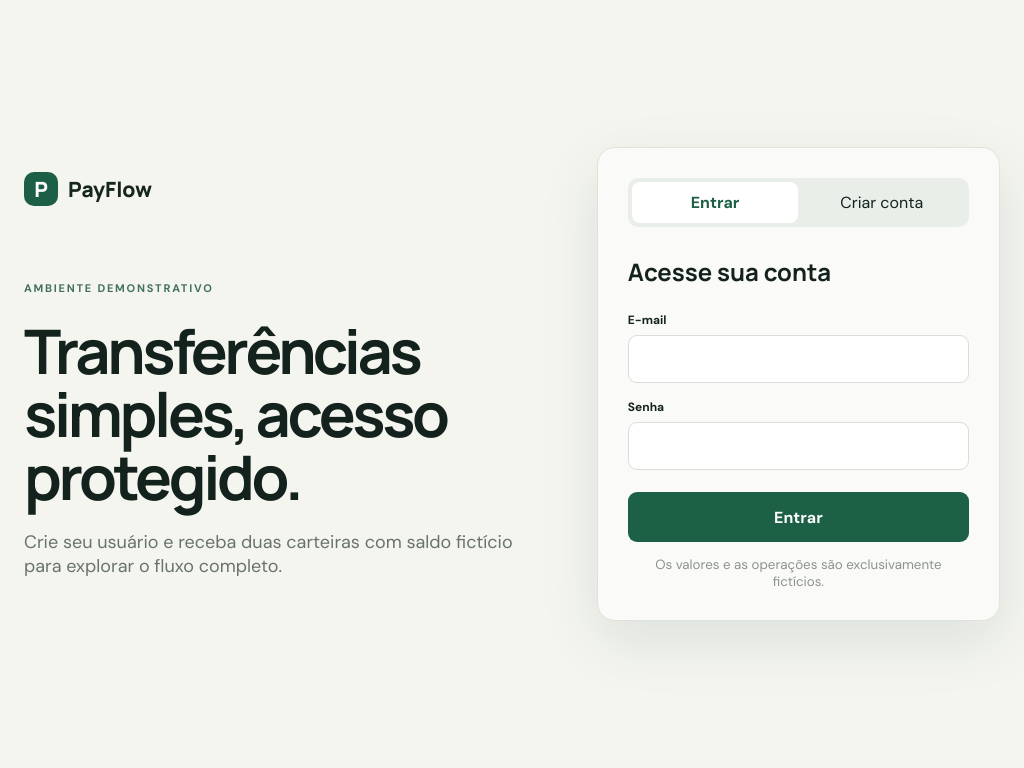
Test case: PayFlow dashboard › selects another destination when the source changes to the current destination
Type "user@example.com" into the field labelled "E-mail". click: {"x": 798, "y": 359}
box: x1=628 y1=335 x2=969 y2=383
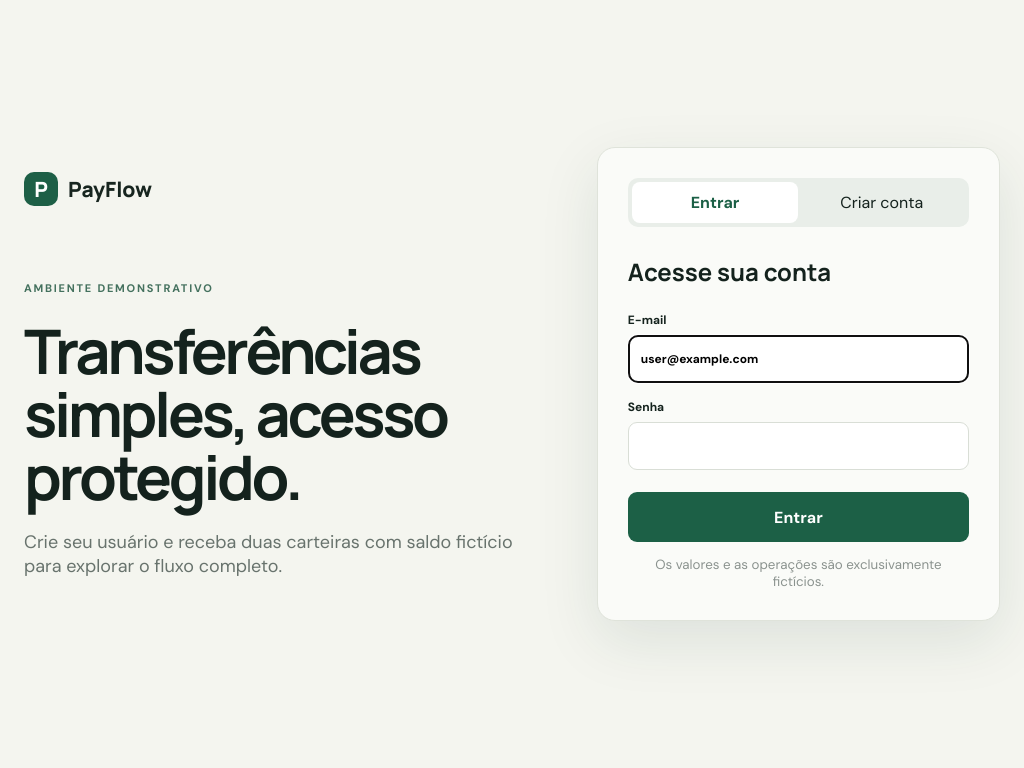
Type "safe-password" into the password field labelled "Senha". click: {"x": 798, "y": 446}
box: x1=628 y1=422 x2=969 y2=470
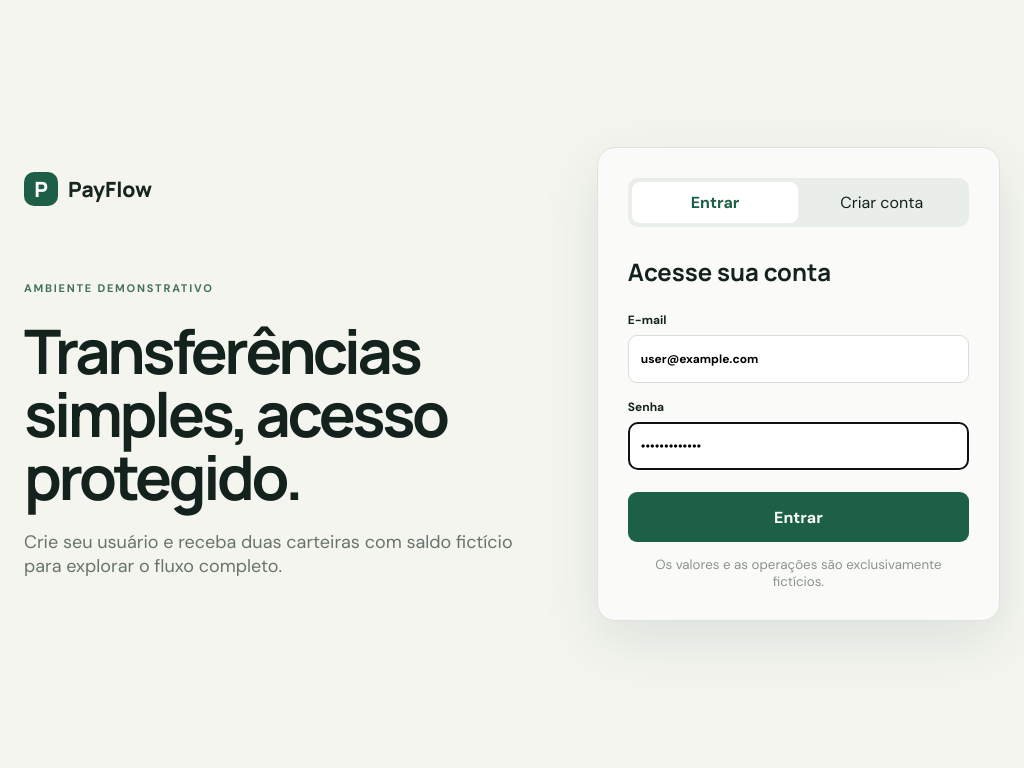
Click the button "Entrar". click: {"x": 798, "y": 517}
box: x1=628 y1=492 x2=969 y2=542
(page scrolled)
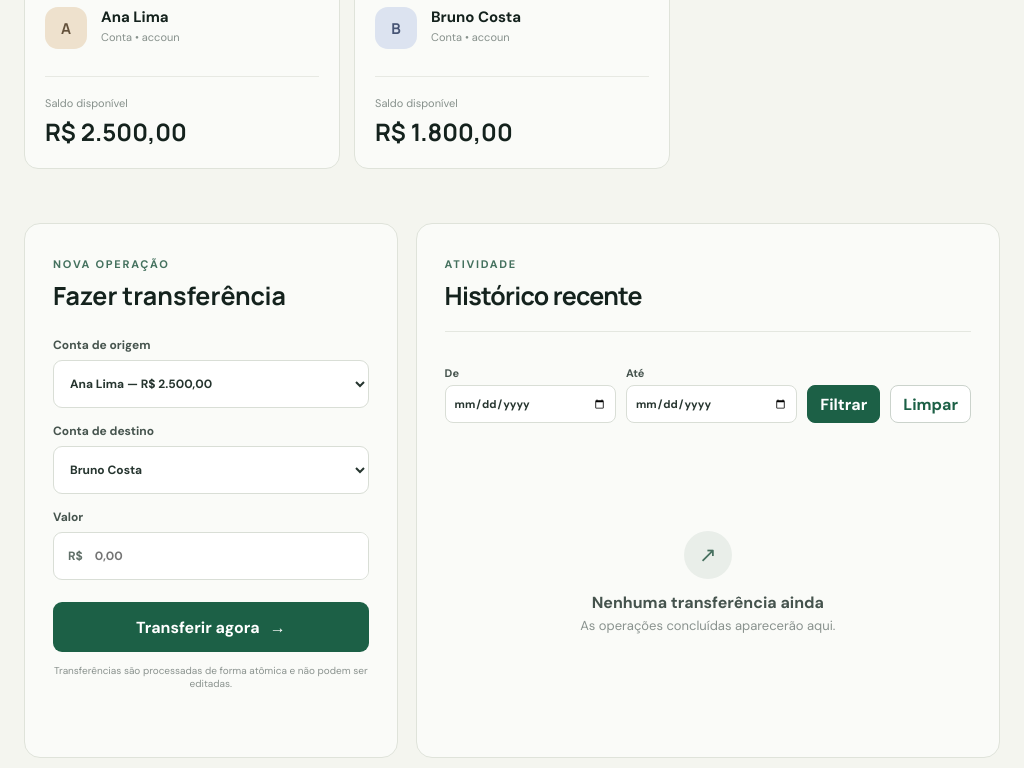
Expected: the dropdown labelled "Conta de origem" shows "Ana Lima — R$ 2.500,00"
Expected: the dropdown labelled "Conta de destino" shows "Bruno Costa", x1=53 y1=446 x2=369 y2=494
Select "Bruno Costa — R$ 1.800,00" in the dropdown labelled "Conta de origem". click: {"x": 211, "y": 384}
box: x1=53 y1=360 x2=369 y2=408
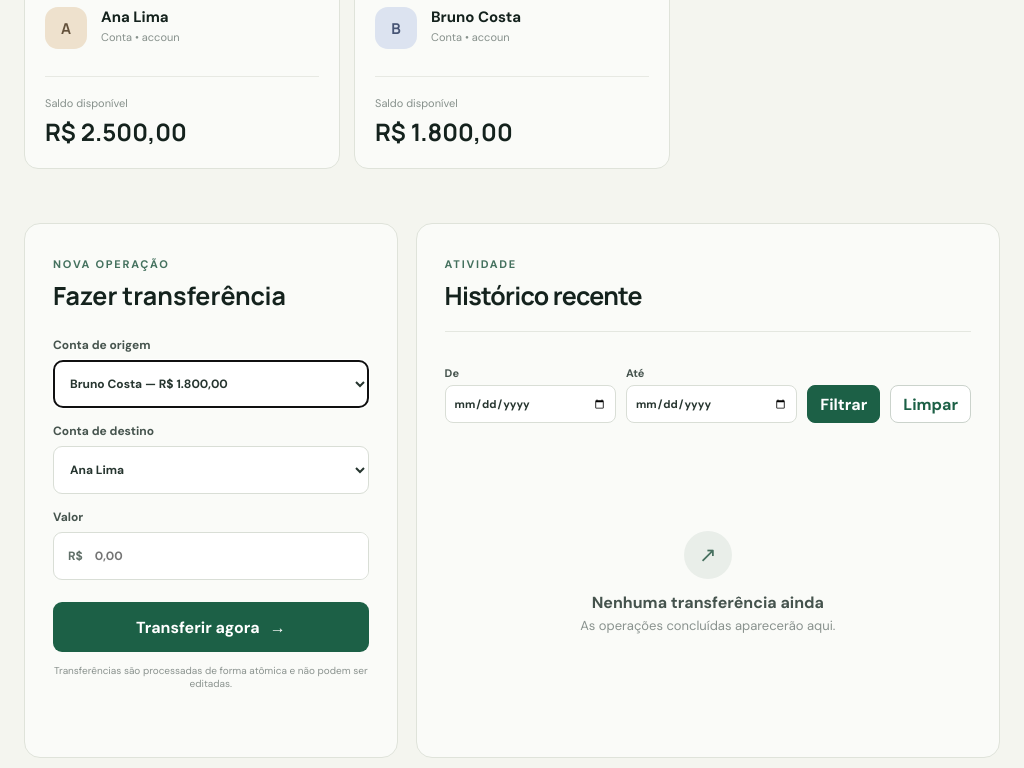
Expected: the button "Transferir agora →" is enabled, x1=53 y1=602 x2=369 y2=652
Expected: the dropdown labelled "Conta de destino" shows "Ana Lima", x1=53 y1=446 x2=369 y2=494
